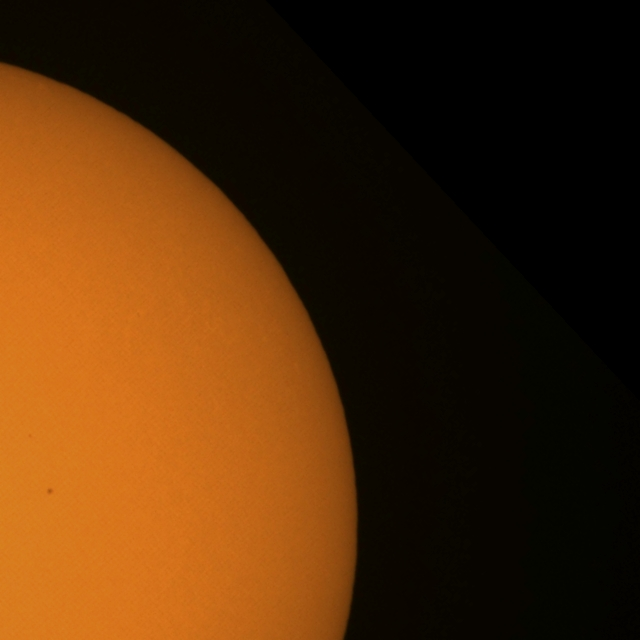sunspot: (46, 487, 54, 496), (27, 432, 34, 440)
